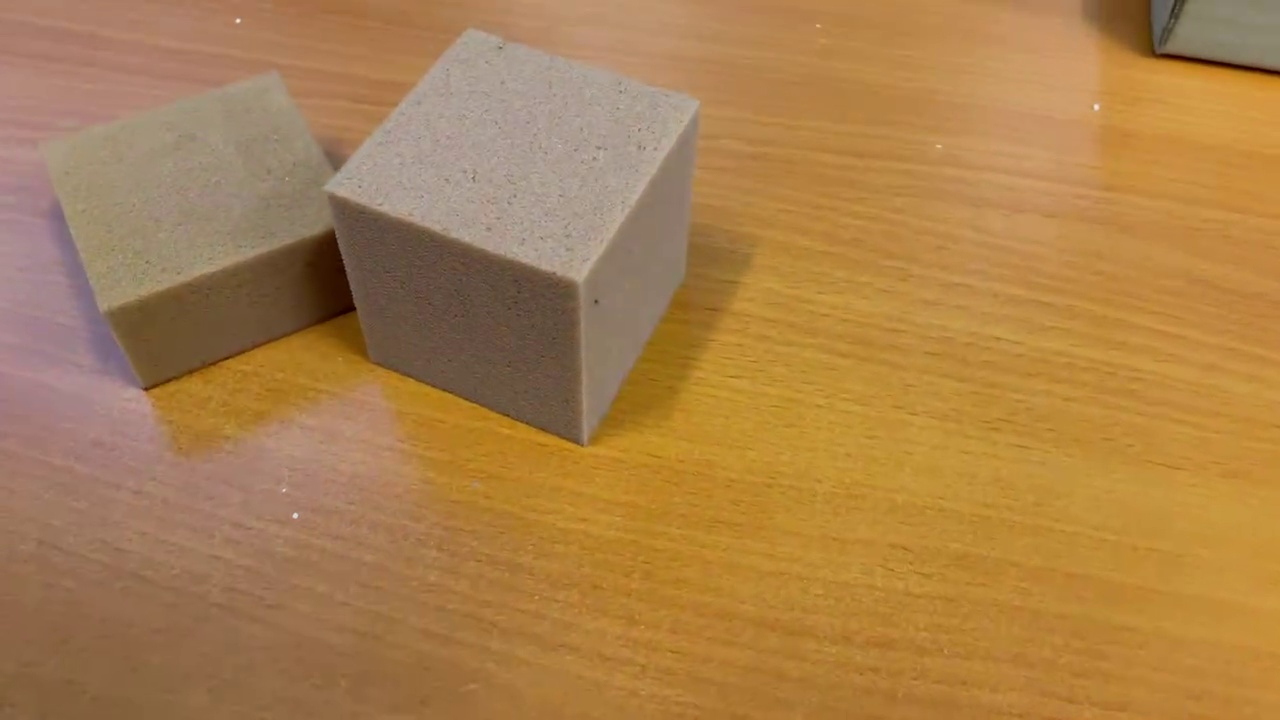Cube: (317, 22, 707, 450)
Cube_short: (34, 64, 360, 400)
